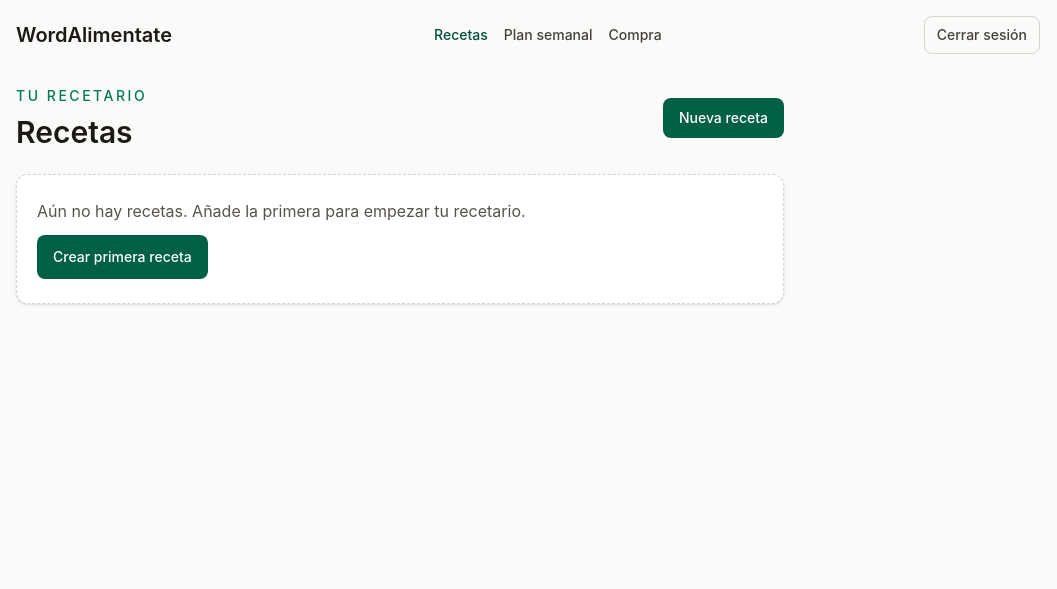
it: login › returns to login and hides protected content after signing out
Expected: the heading "Recetas" is shown, [16,114,147,150]
Click the button "Cerrar sesión" at (982, 35), box [924,16,1040,54]
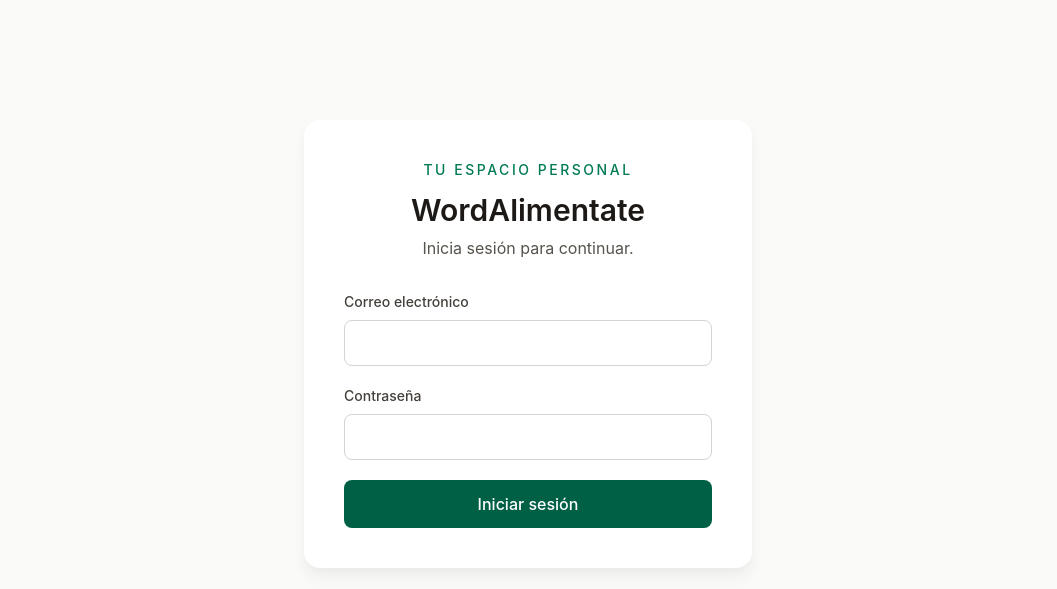
Result: the field labelled "Correo electrónico" is shown at [344,320,712,366]
Result: the link "Recetas" is gone
